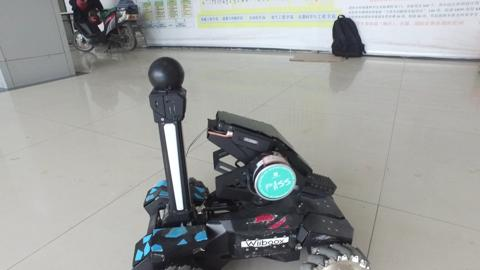bag: (319, 11, 369, 65)
chariot: (125, 59, 348, 259)
